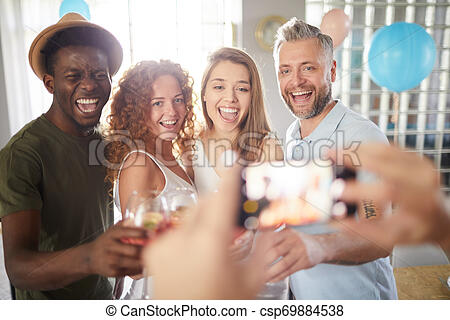person: (265, 16, 365, 149), (22, 11, 119, 147), (181, 38, 273, 157), (118, 64, 194, 168)
